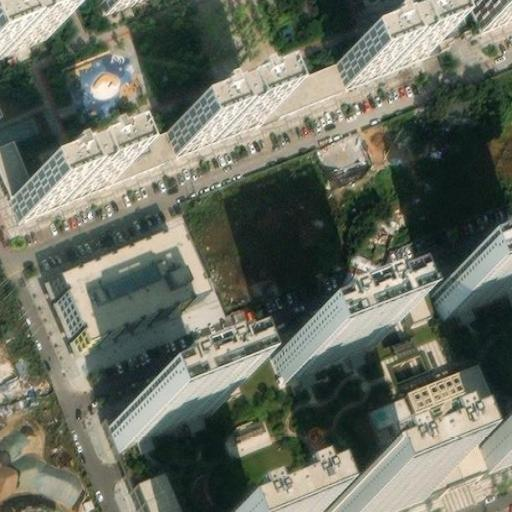building: (51, 240, 197, 349), (220, 56, 344, 127), (70, 126, 208, 189), (269, 320, 369, 380), (108, 383, 207, 443), (165, 88, 260, 145), (14, 152, 108, 208), (335, 22, 427, 78), (427, 257, 512, 316), (328, 462, 428, 512), (0, 455, 83, 511), (0, 133, 59, 210), (405, 440, 487, 487), (312, 131, 369, 179), (140, 466, 186, 512), (0, 4, 46, 48), (478, 419, 512, 465), (475, 0, 512, 21), (358, 476, 386, 490)
